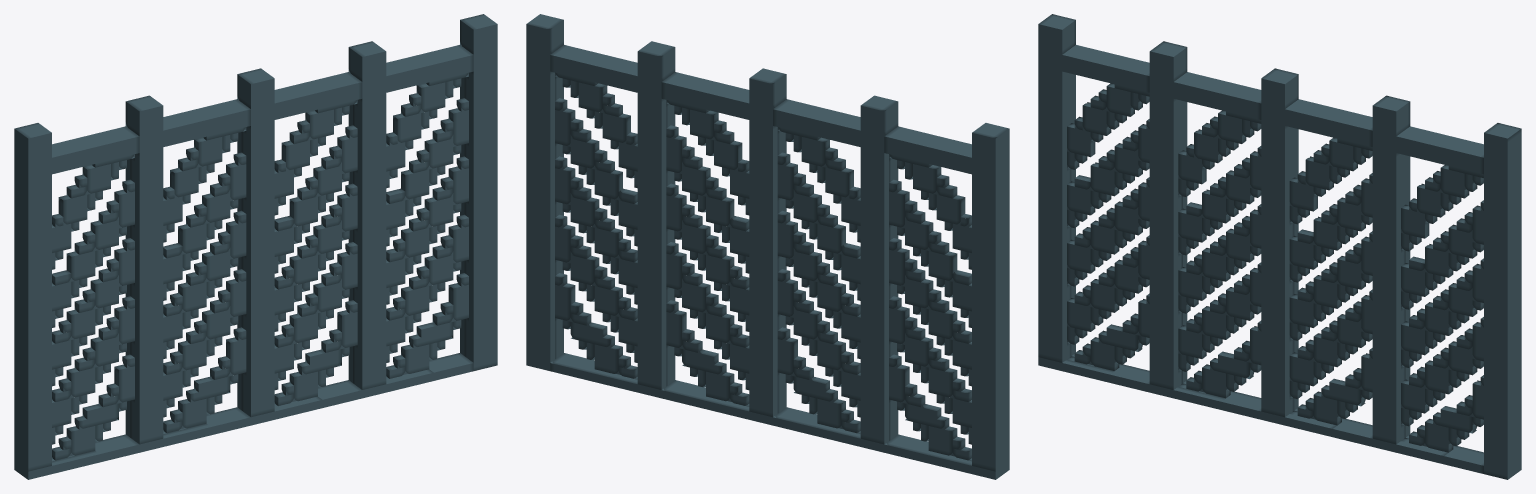
The model's file is plotek_bez_br_n.dae.
3 views of the same model, side by side, from view 1: azimuth 30°, elevation 25°; view 2: azimuth 150°, elevation 25°; view 3: azimuth 330°, elevation 25° (orthographic).
Visible parts, largest first — view 1: Content; view 2: Content; view 3: Content.
Part boxes in pixels (<box>): Content: <box>14,14,497,479</box>; Content: <box>526,14,1009,479</box>; Content: <box>1038,14,1521,479</box>.
Size of the model in its own units: 59 by 41 by 3.
1 material, 1 textured.
